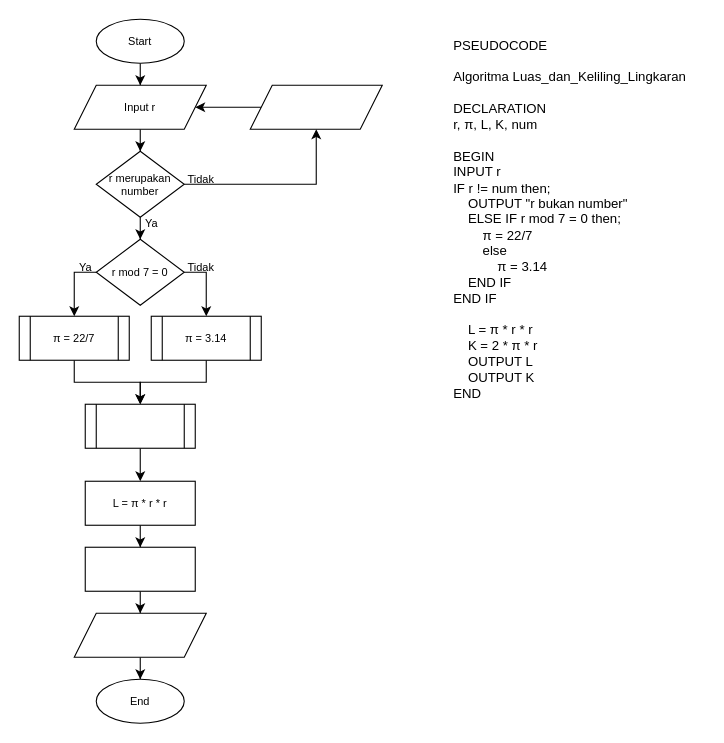
The diagram is 724 pixels wide and 743 high, and some of its shapes have lost their labels. Each missing label, with the centre of its shape:
K = 2 * π * r: point (139, 568)
L, K: point (139, 425)
Output "r bukan number": point (315, 106)
Output L, K: point (139, 634)
